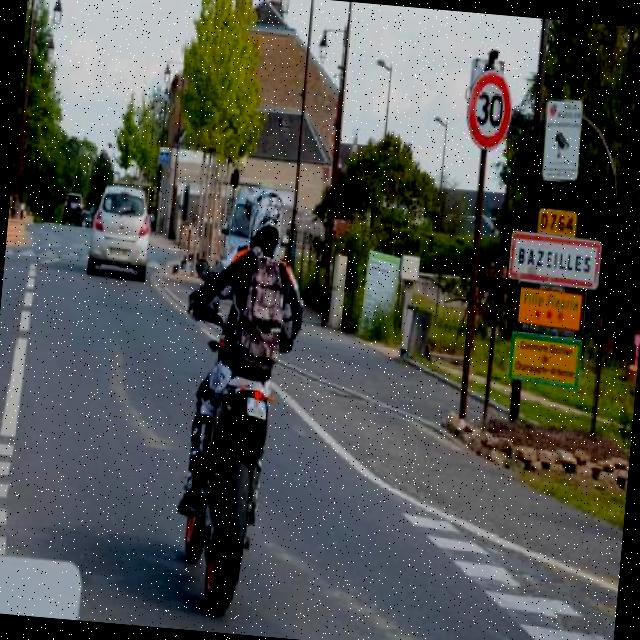Ograniczenie predkosci do 30: (462, 63, 516, 156)
